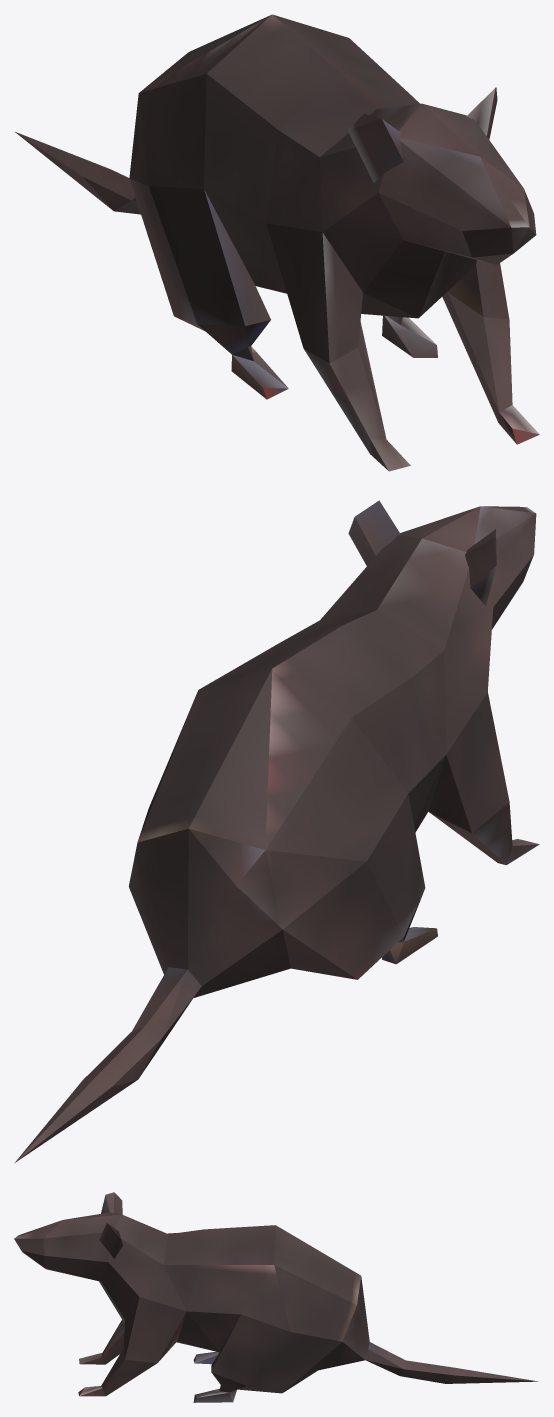
Rendered from Rat.fbx.
3 views of the same model, one above another, from view 1: azimuth 30°, elevation 25°; view 2: azimuth 150°, elevation 25°; view 3: azimuth 270°, elevation 25° (orthographic). The views are drawn at different scales.
Visible parts, largest first — view 1: dungeon_ rat; view 2: dungeon_ rat; view 3: dungeon_ rat.
Part boxes in pixels (x1=…): dungeon_ rat: x1=15, y1=14, x2=539, y2=471; dungeon_ rat: x1=14, y1=500, x2=539, y2=1163; dungeon_ rat: x1=14, y1=1192, x2=538, y2=1402.
Size of the model in its own units: 0.0898 by 0.134 by 0.3666.
